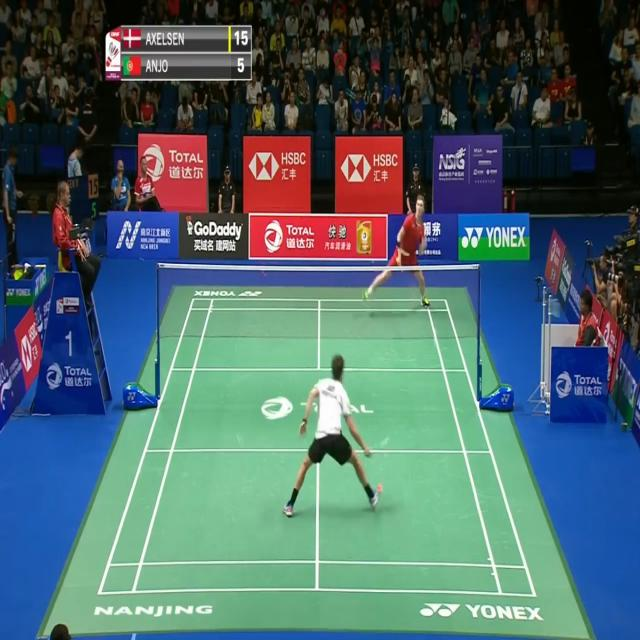Player1: (280, 347, 384, 522)
Player2: (364, 190, 434, 308)
